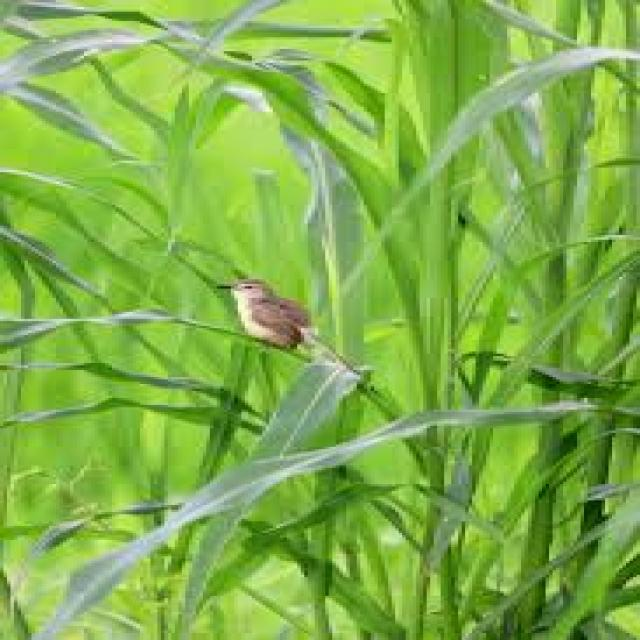bird: (225, 266, 316, 353)
